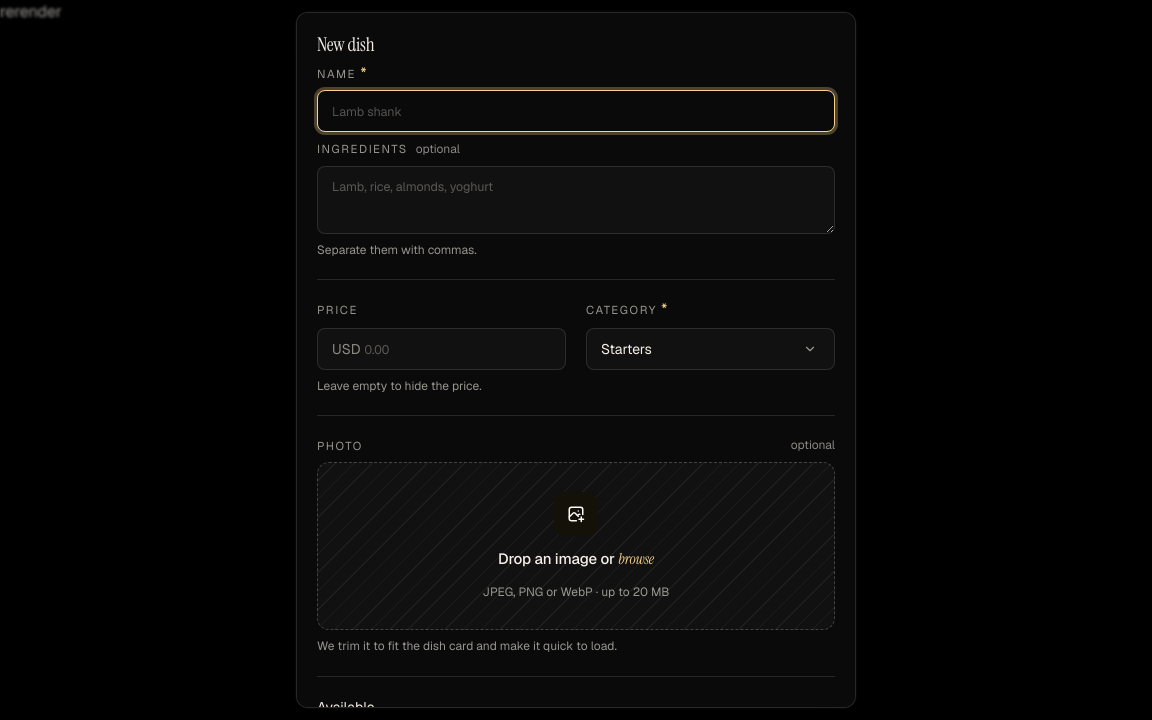
Test: DishDialog › tells the owner when adding a dish fails
In the field labelled "Name*": (576, 111) left=318, top=91, right=834, bottom=131, type "Lamb"
(page scrolled)
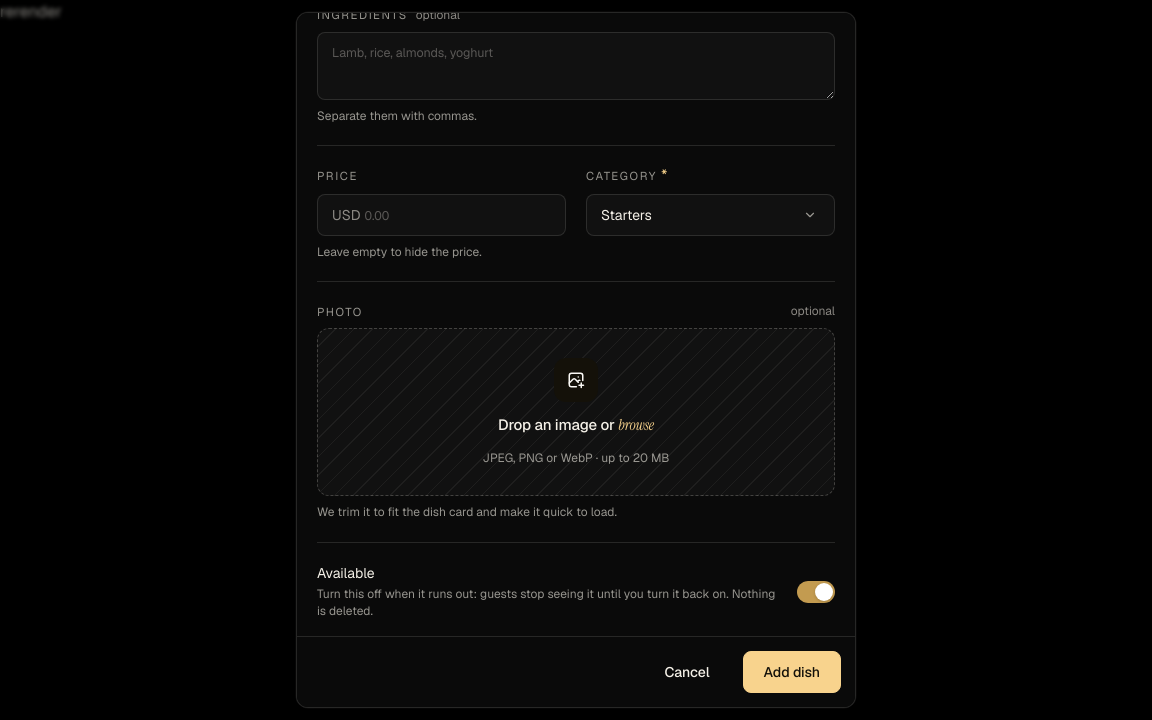
Click the button "Add dish": (792, 672) left=742, top=652, right=841, bottom=694
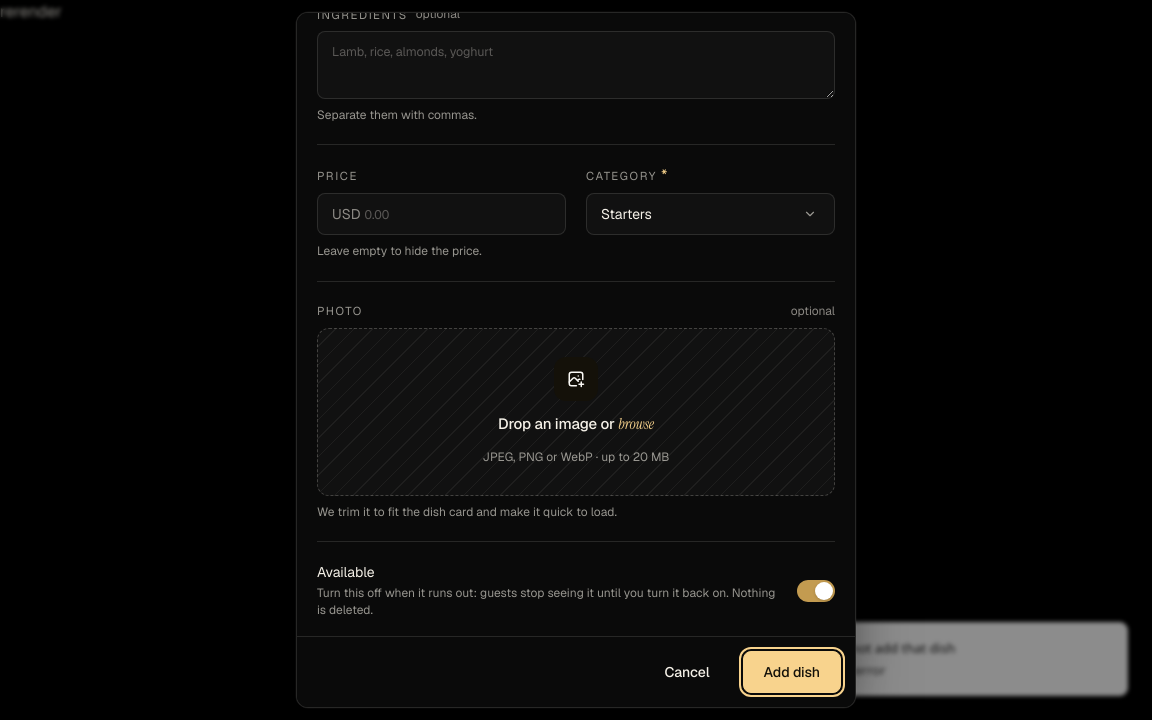
Expected: the text "Could not add that dish" is shown, left=812, top=639, right=955, bottom=659
